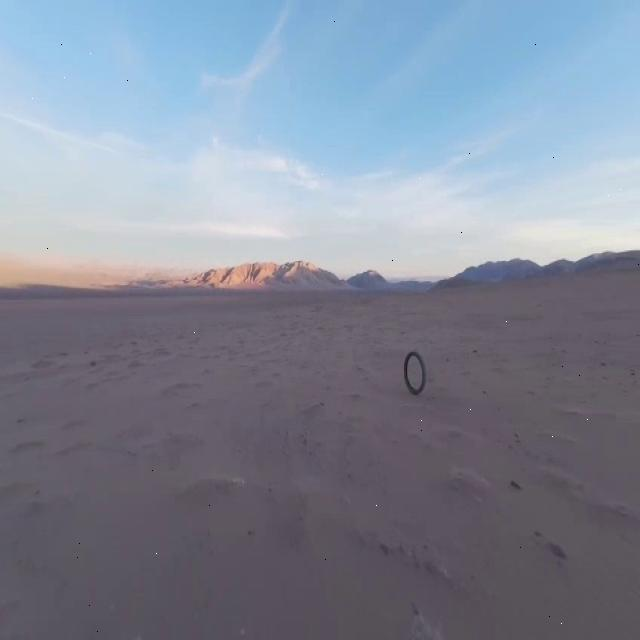Tire: (404, 351, 426, 394)
